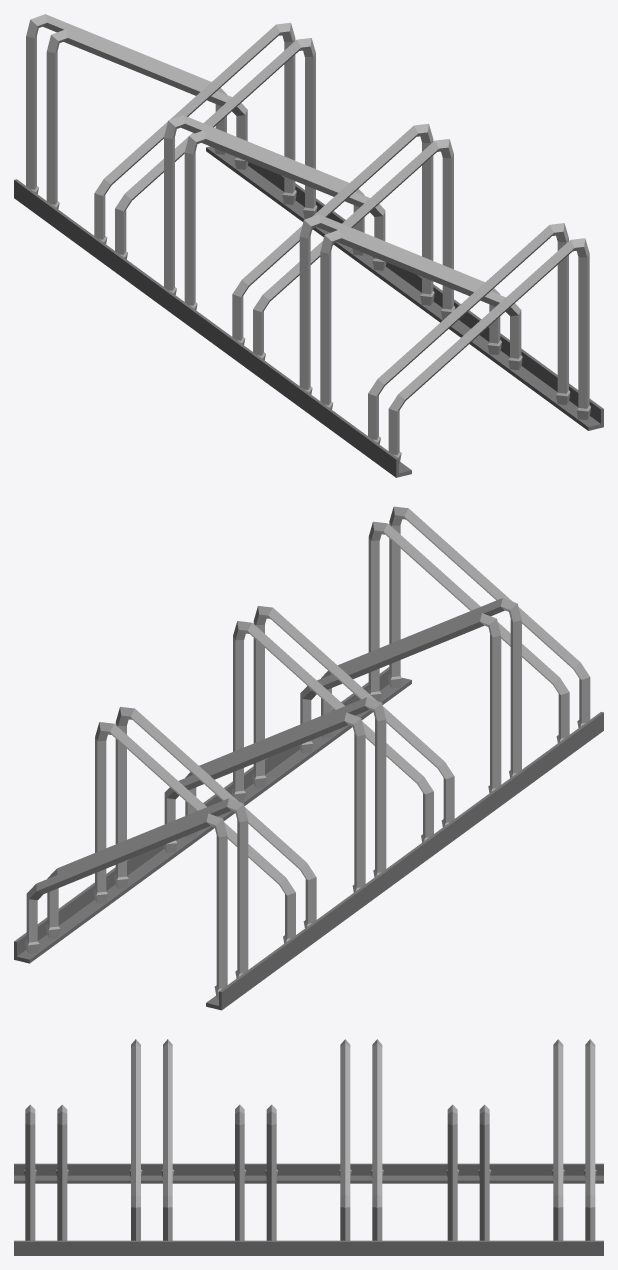
Rendered from SM_bike_rack.gltf.
3 renders of one model, top to bottom at view 1: azimuth 30°, elevation 25°; view 2: azimuth 150°, elevation 25°; view 3: azimuth 270°, elevation 25°, orthographic. The views are drawn at different scales.
Visible parts, largest first — view 1: SM_bike_rack; view 2: SM_bike_rack; view 3: SM_bike_rack.
Part boxes in pixels (x1,y1,x2,y2): SM_bike_rack: [14, 14, 603, 477]; SM_bike_rack: [14, 506, 603, 1010]; SM_bike_rack: [14, 1039, 603, 1255].
Size of the model in its own units: 0.8324 by 0.7088 by 2.65.
1 material, 1 textured.
